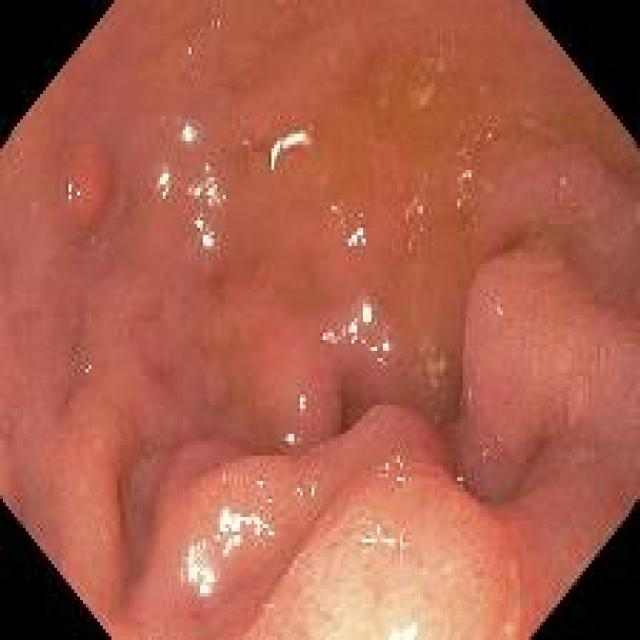Polyps: (248, 408, 640, 640), (66, 144, 112, 227)
